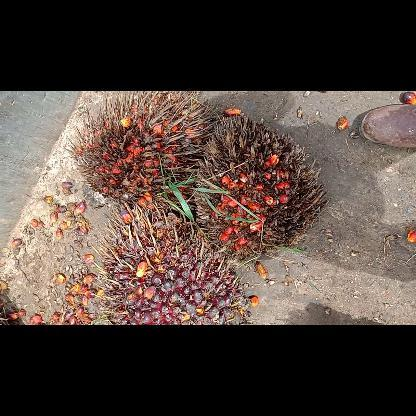TBS masak: (89, 206, 253, 324)
Terlalu masak: (192, 111, 332, 267), (65, 91, 209, 211)
